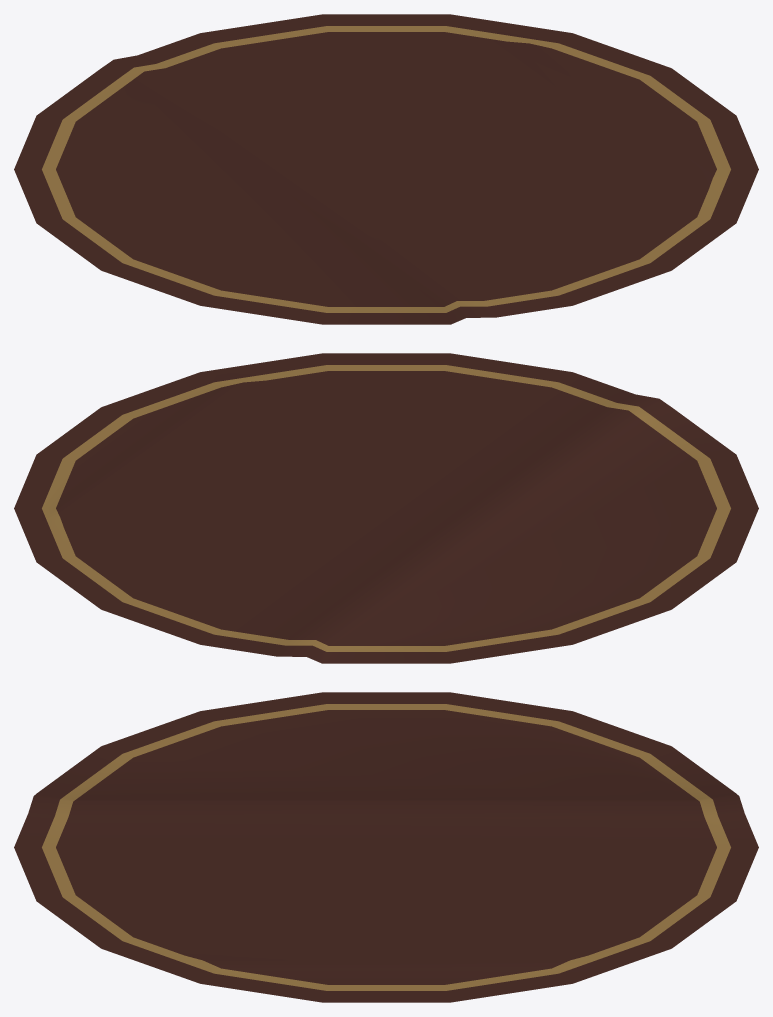
Rendered from rug_round.glb.
3 views of the same model, one above another, from view 1: azimuth 30°, elevation 25°; view 2: azimuth 150°, elevation 25°; view 3: azimuth 270°, elevation 25° (orthographic).
Parts seen in each view (by area): view 1: rug_round; view 2: rug_round; view 3: rug_round.
Boxes of the visible parts, x1,y1,x2,y2 form: rug_round: (14, 14, 758, 324); rug_round: (14, 353, 758, 663); rug_round: (14, 692, 758, 1002).
Size of the model in its own units: 1.58 by 0.00995 by 1.6.
